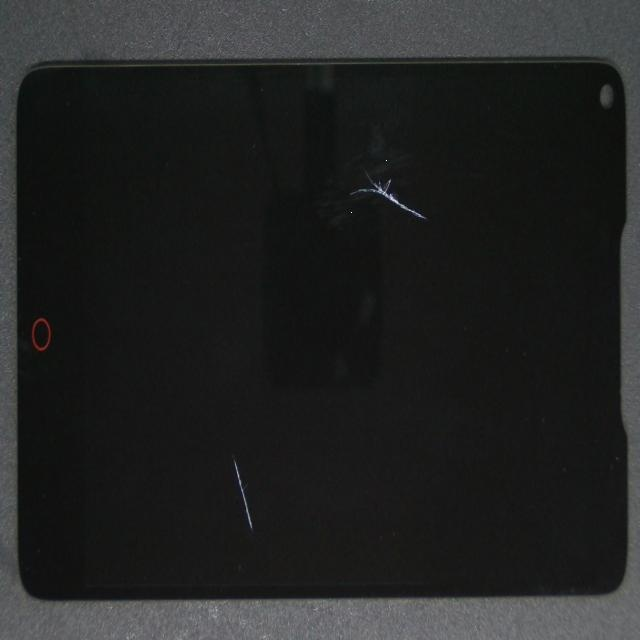scratch: (87, 196, 346, 640), (166, 54, 522, 270)
